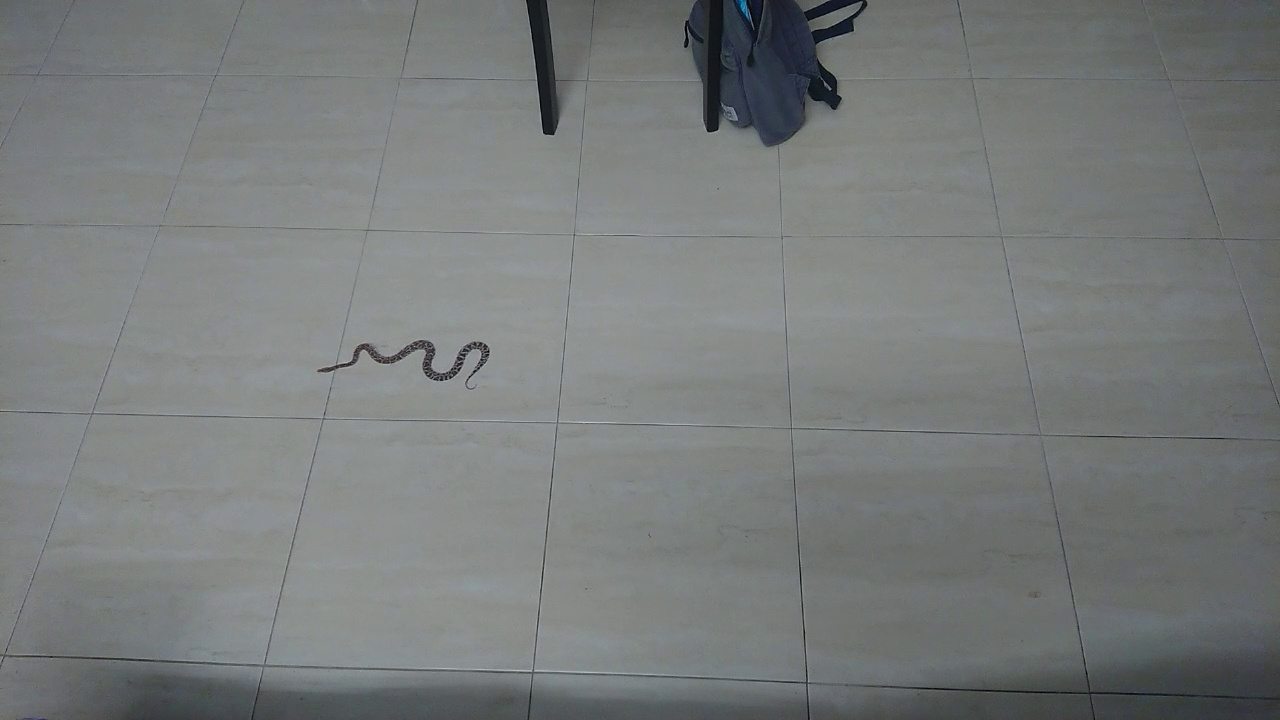snake: (299, 324, 507, 401)
